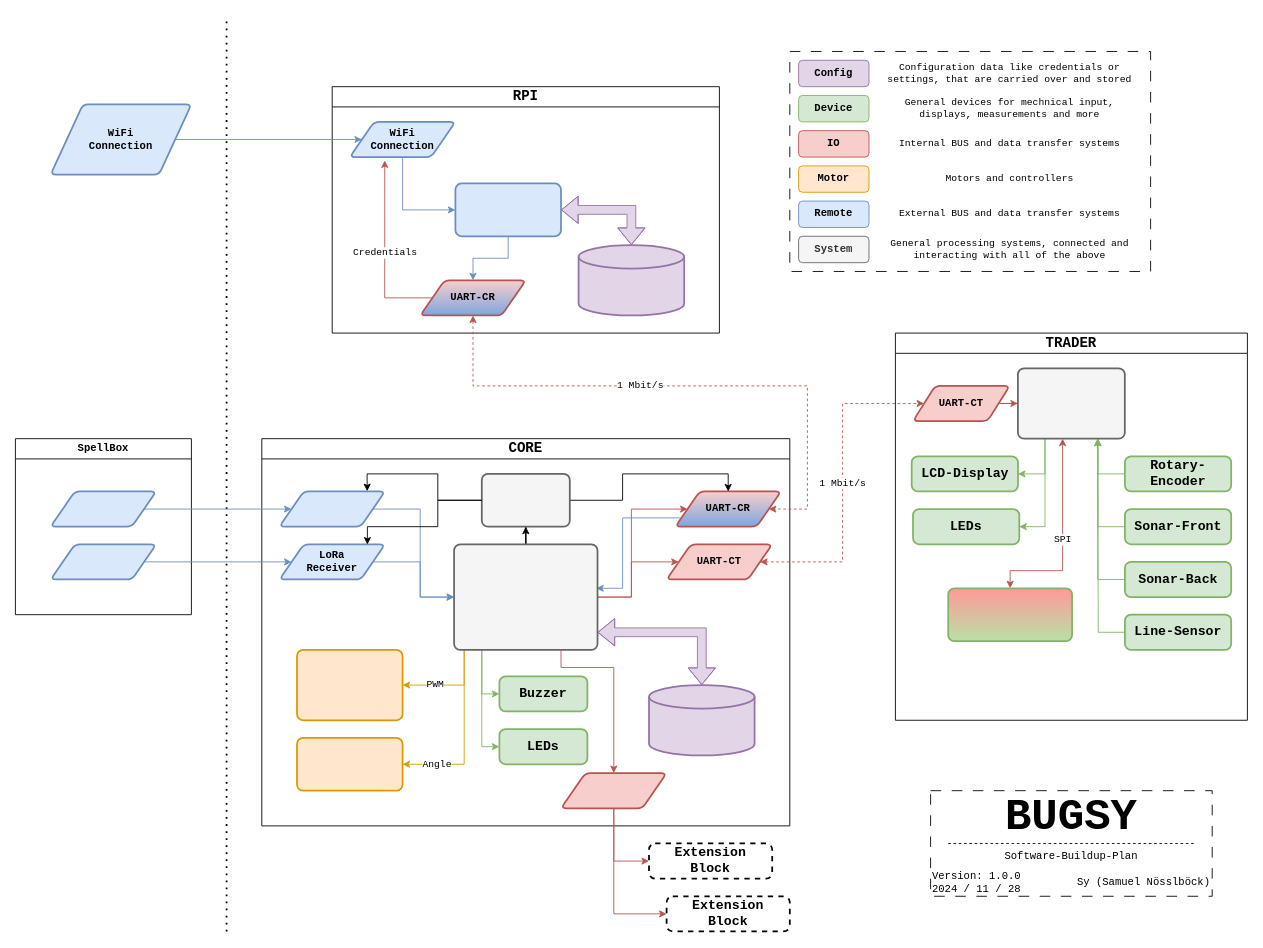
Image size: 1263x948. Some labels were removed from this diagram. The shapes that lost their labels are listed below. From the top down, each one's centre as x and y in pixels, then its label:
the point at 507,209: Webserver
the point at 631,280: Config File
the point at 1071,403: Trader CMD-IO
the point at 103,508: BlueTooth Client
the point at 331,508: BlueTooth Server
the point at 525,500: Remote Manager
the point at 103,561: LoRa Sender
the point at 525,596: Core CMD-IO
the point at 1010,614: Accelerometer
the point at 349,685: Main Motor Control
the point at 701,720: Config EEPROM
the point at 349,764: Servo Motors
the point at 613,790: I2C
